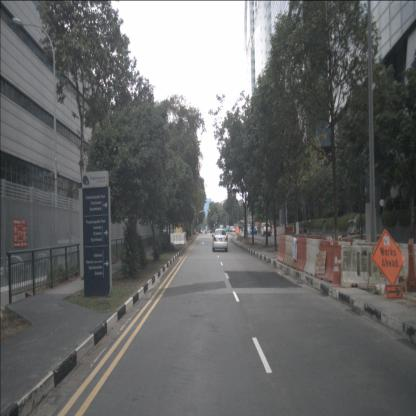movable_object-barrier: (341, 242, 399, 288), (316, 240, 346, 284), (303, 238, 322, 277), (291, 237, 308, 272), (406, 238, 416, 292), (283, 236, 297, 268), (277, 236, 287, 263), (170, 233, 184, 244), (276, 226, 286, 235), (286, 226, 294, 234), (270, 228, 274, 236)
movable_object-trafficcone: (330, 253, 340, 287)
vehicle-car: (212, 228, 228, 252), (260, 222, 271, 236), (246, 226, 257, 235), (225, 225, 230, 232)
vehicle-truck: (219, 224, 224, 234)
